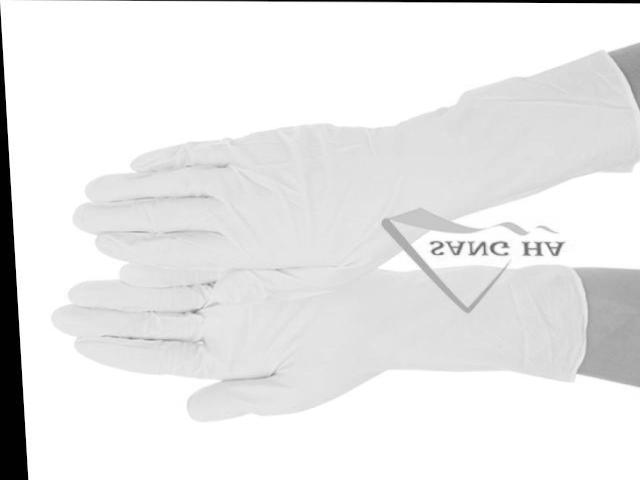gloved: (53, 264, 410, 424), (68, 123, 416, 283)
